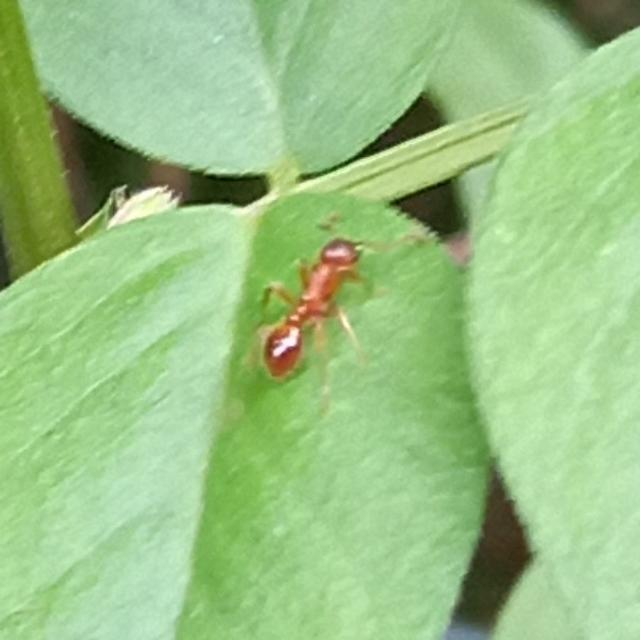Myrmica: (239, 212, 385, 388)
